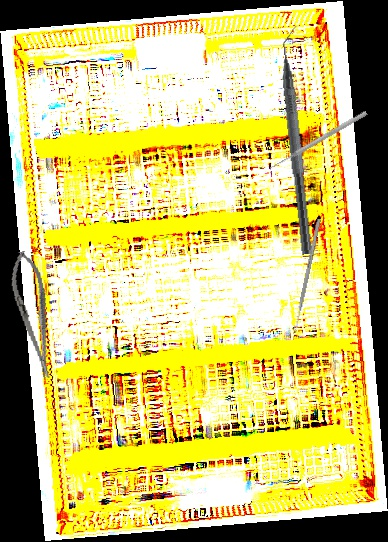Chopper: (274, 25, 328, 255)
Needle Holder: (5, 248, 62, 382)
Pusher: (267, 109, 369, 172), (292, 218, 322, 334)
